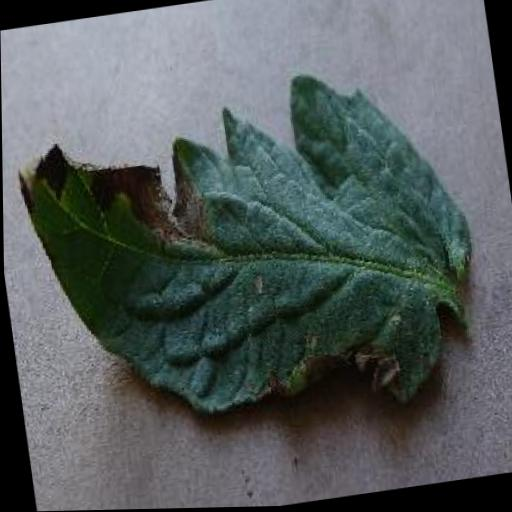Early Blight: (3, 50, 490, 458)
